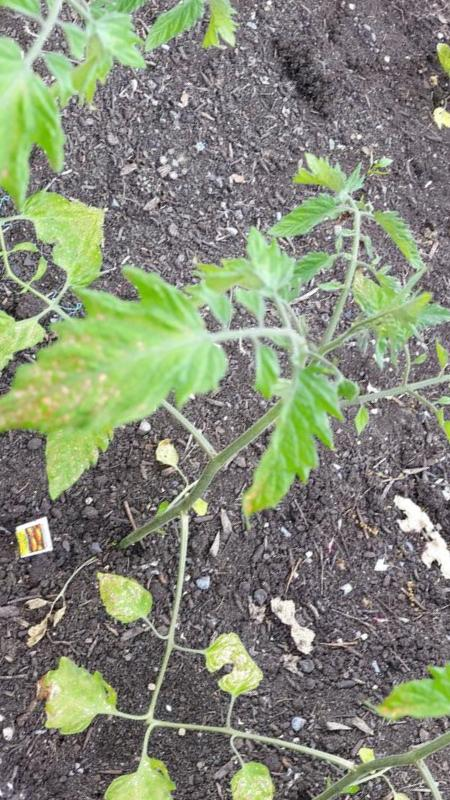Tomato leaf bacterial spot: (0, 238, 270, 527), (187, 348, 383, 536), (445, 215, 450, 342)
